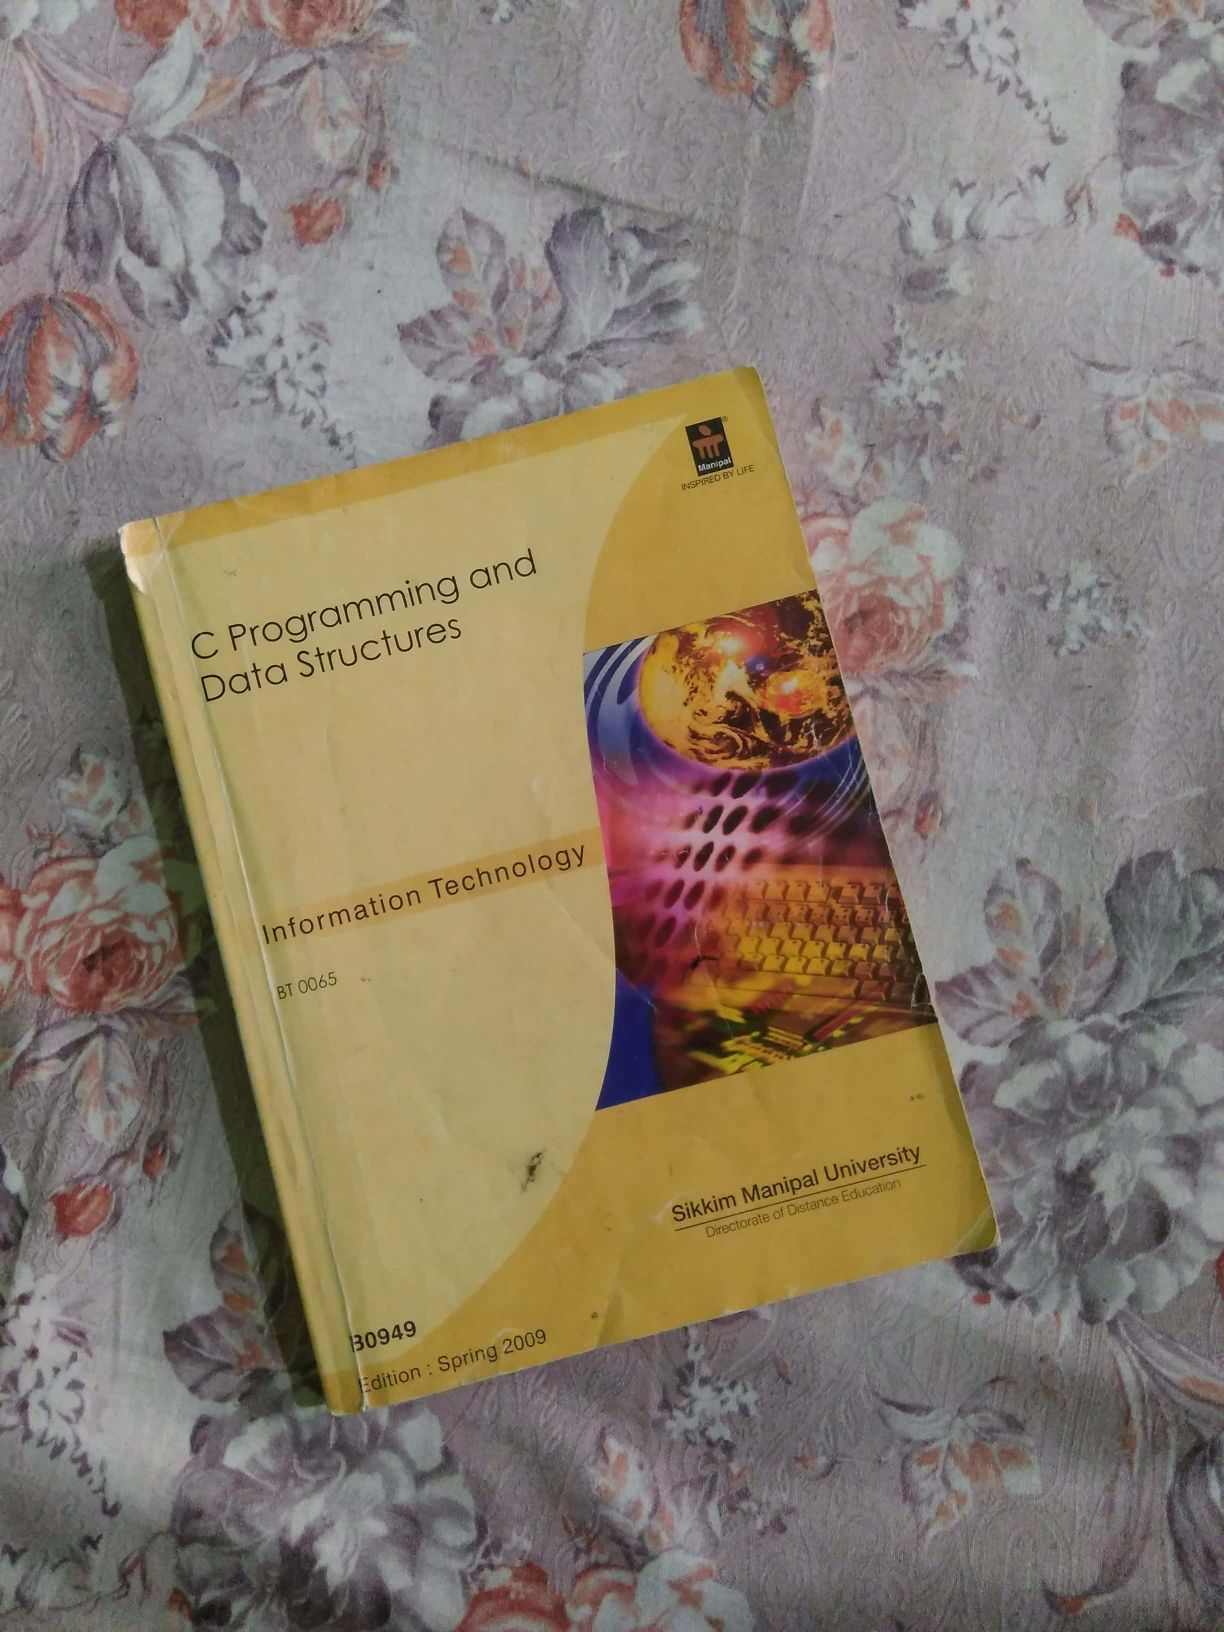clang: (114, 359, 971, 1399)
